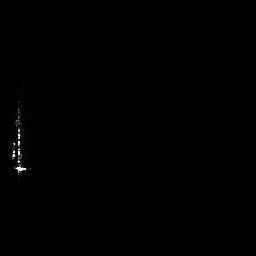ship: (10, 98, 32, 175)
